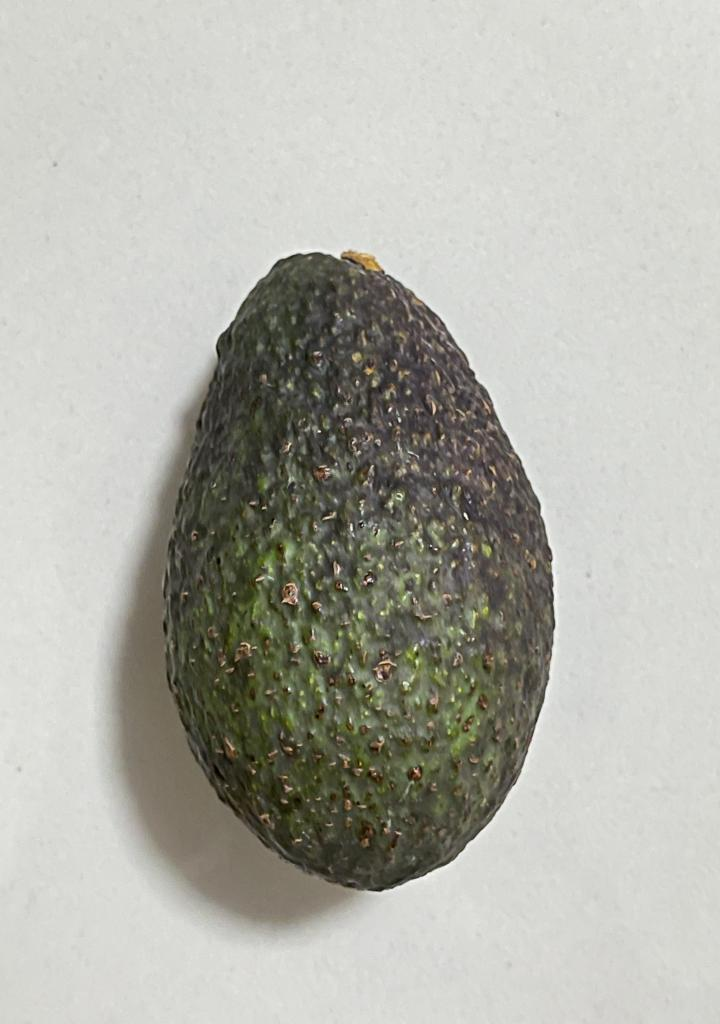Level1: (150, 214, 574, 906)
